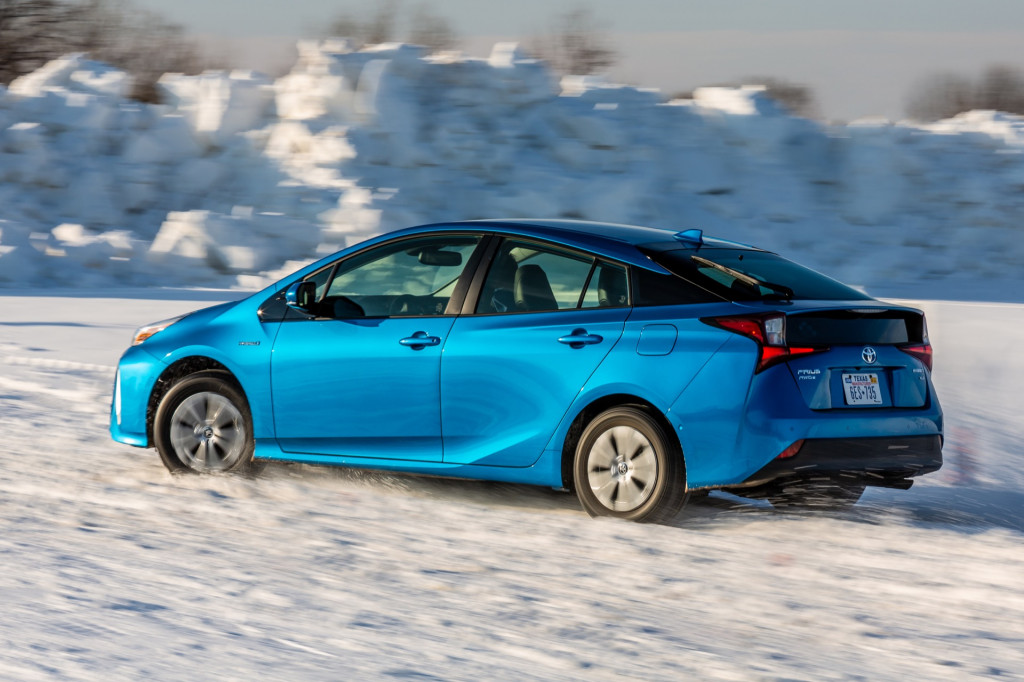Toyota Prius: (109, 219, 945, 524)
